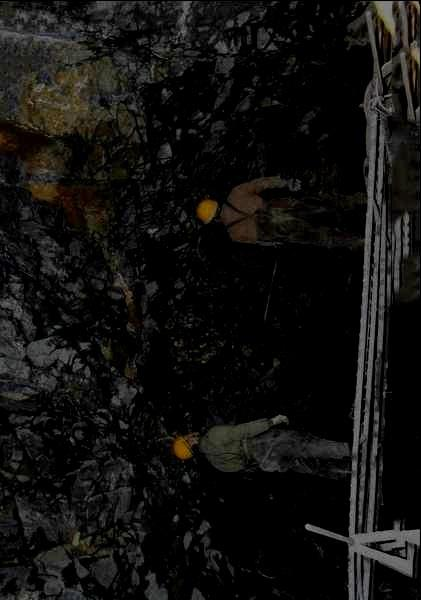helmet: (172, 431, 200, 460), (195, 200, 221, 226)
